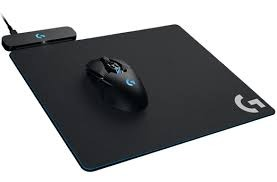mouse: (85, 53, 152, 118)
